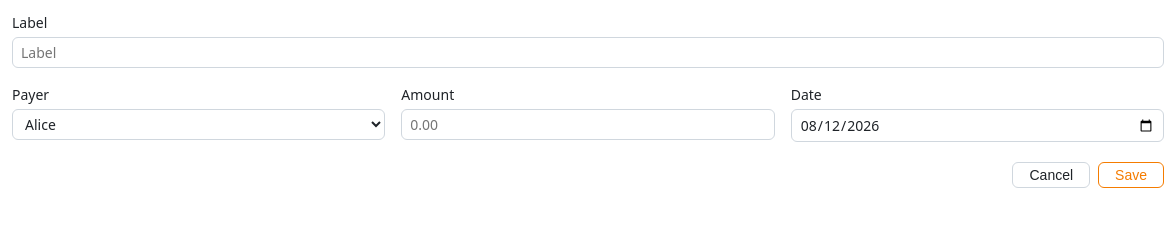
Test: ExpenseForm › shows validation errors when saving an empty form
Click the button "Save": (1131, 175) [1098,162,1164,188]
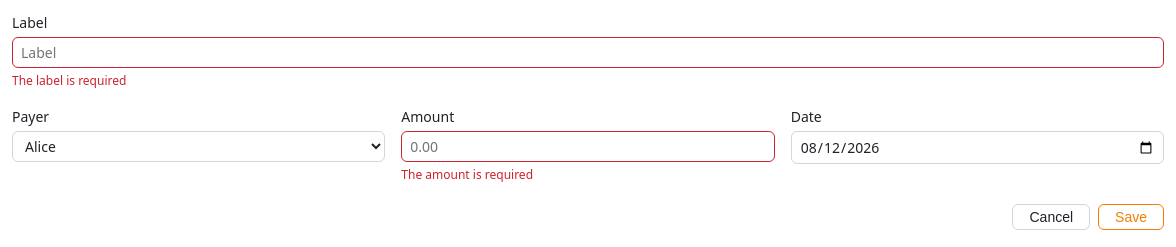
expect the text "The label is required" is shown: met, box [12,72,126,89]
